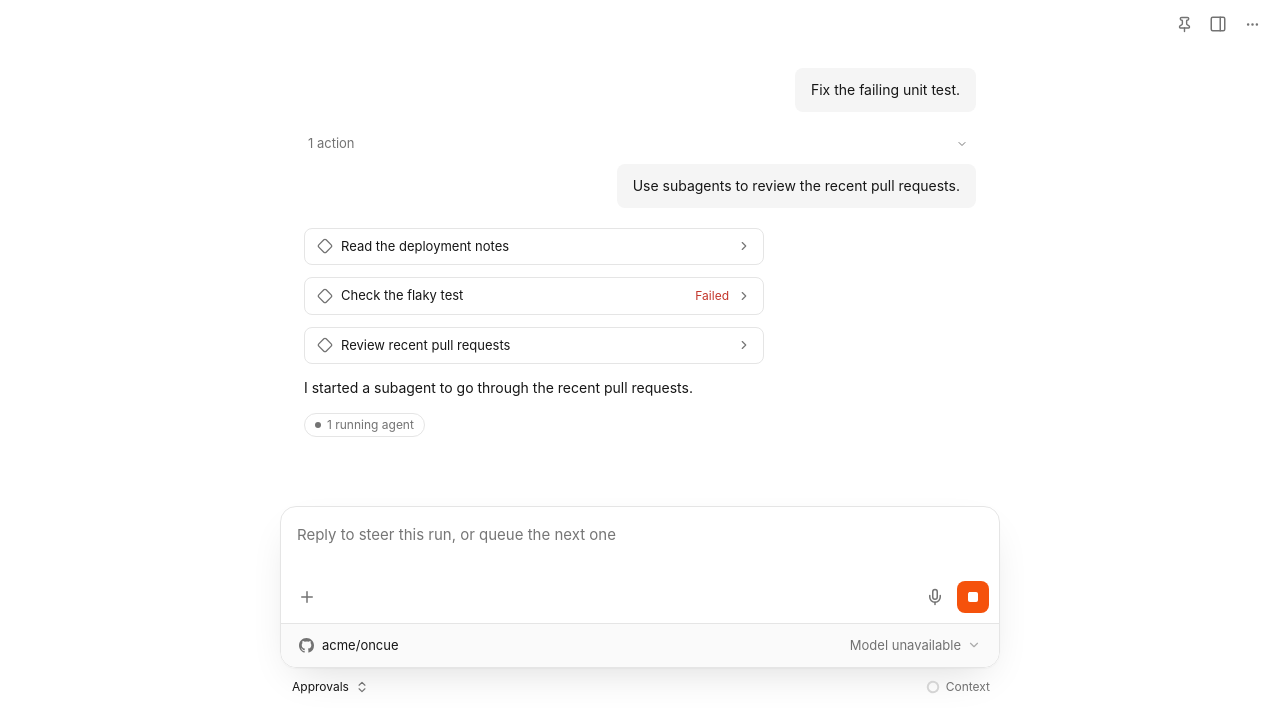
Test: subagents on the session screen › opens a subagent's detail from its row, and back to the list
What coordinates should you click on to do the following:
click the button with aria-label "Open subagent: Review recent pull requests, Running"
I would click on:
 (534, 345)
Its box is [304,326,764,364].
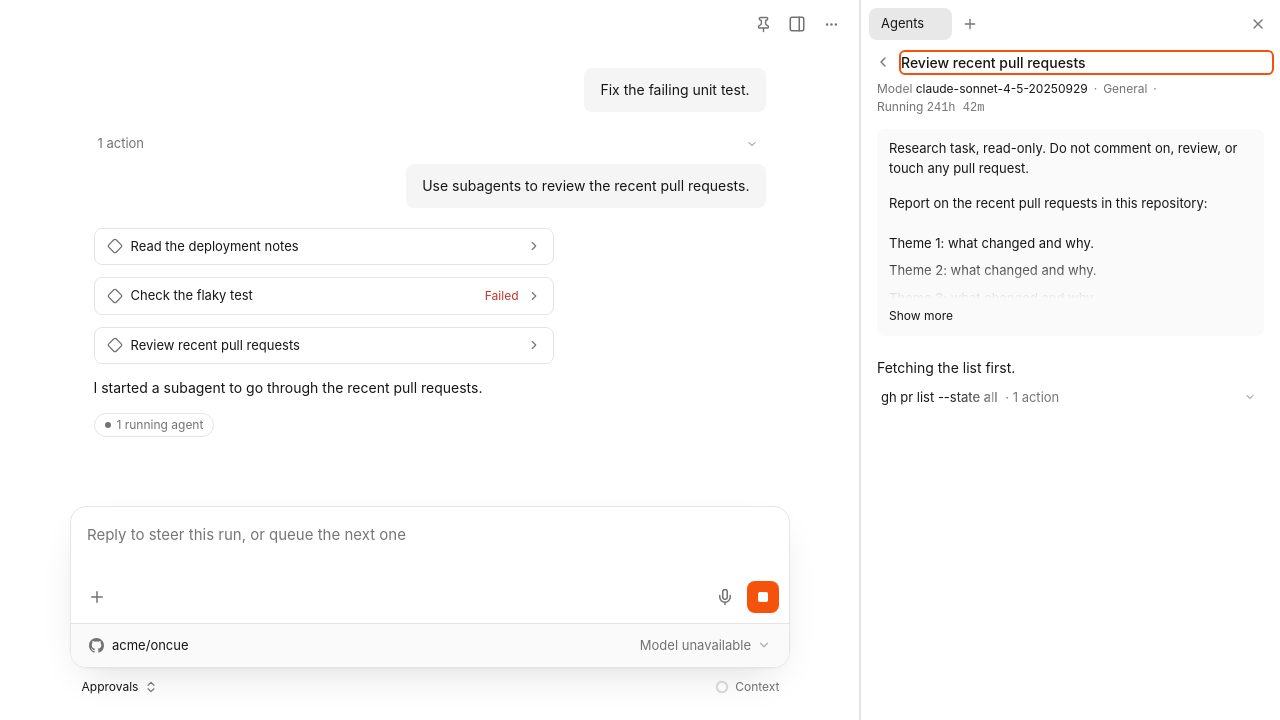
Result: the heading with test id "agent-detail-title" reads "Review recent pull requests" at [901,54,1086,70]
What coordinates should you click on to do the following:
click the button named "Back to agents"
I would click on:
 (883, 62)
Its box is [869,48,897,76].
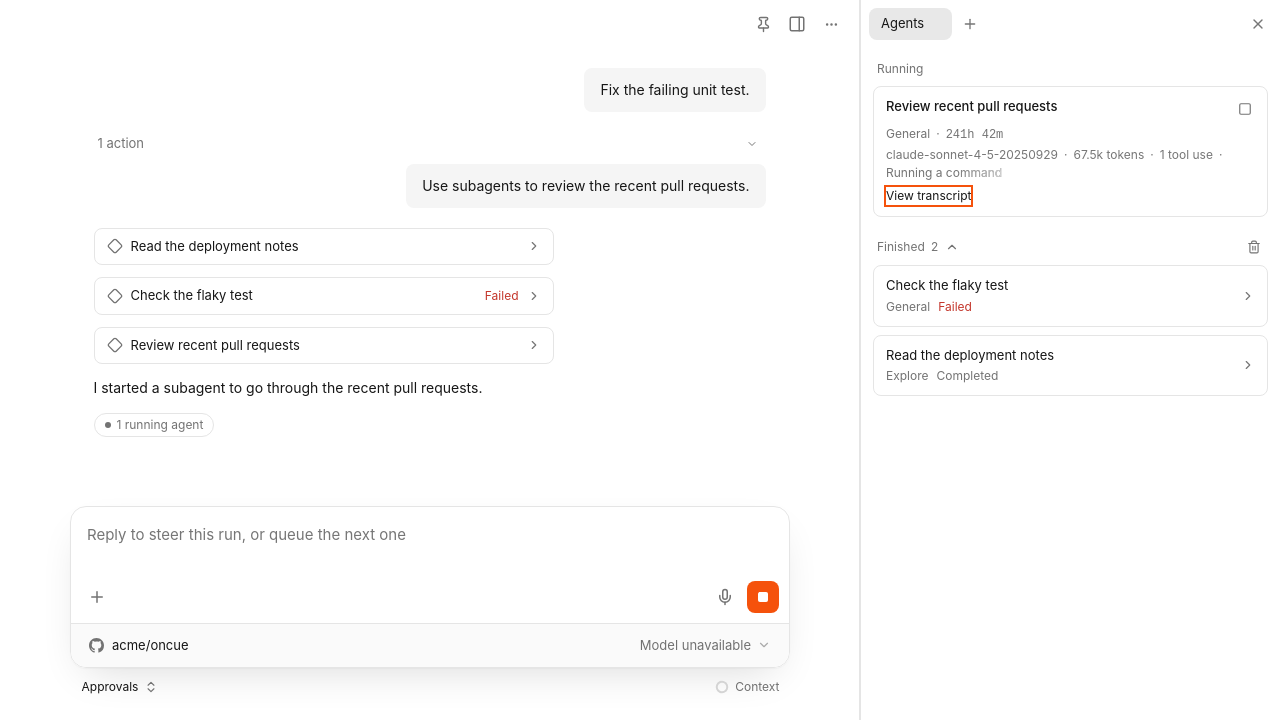
Result: the element with test id "agents-running" is shown at [873,48,1268,217]
